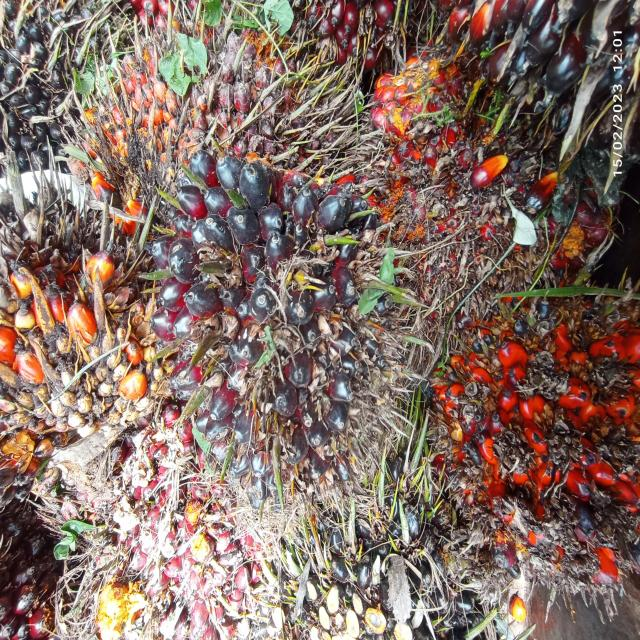fraksi 1: (145, 88, 408, 515)
fraksi 4: (412, 225, 640, 640)
